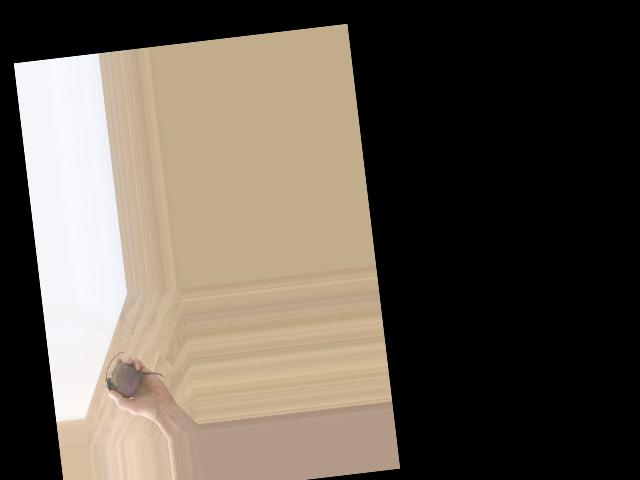beet: (101, 346, 166, 399)
